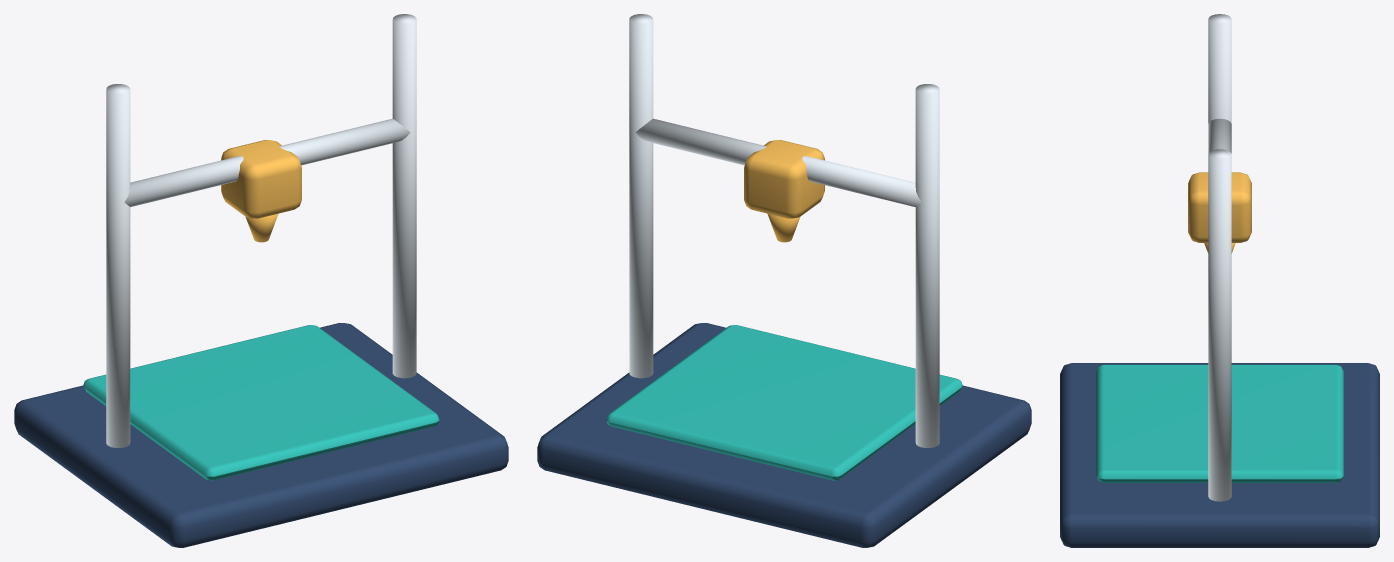
File: three-d-printer-lite.glb
3 renders of one model, left to right at view 1: azimuth 30°, elevation 25°; view 2: azimuth 150°, elevation 25°; view 3: azimuth 270°, elevation 25°, orthographic. The views are drawn at different scales.
Visible parts, largest first — view 1: Printer base; view 2: Printer base; view 3: Printer base.
Boxes of the visible parts, x1,y1,x2,y2 form: Printer base: (14,14,508,547); Printer base: (537,14,1031,547); Printer base: (1060,14,1379,547).
Size of the model in its own units: 1.3 by 1.46 by 1.1.
